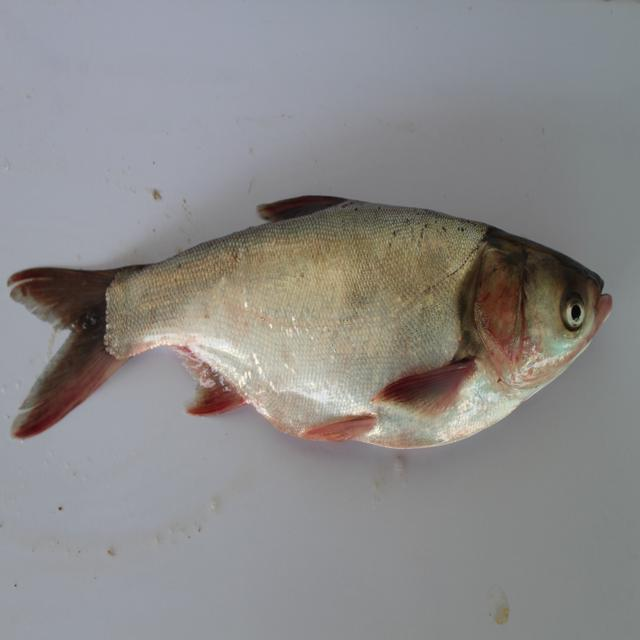SilverCarp: (5, 199, 624, 473)
